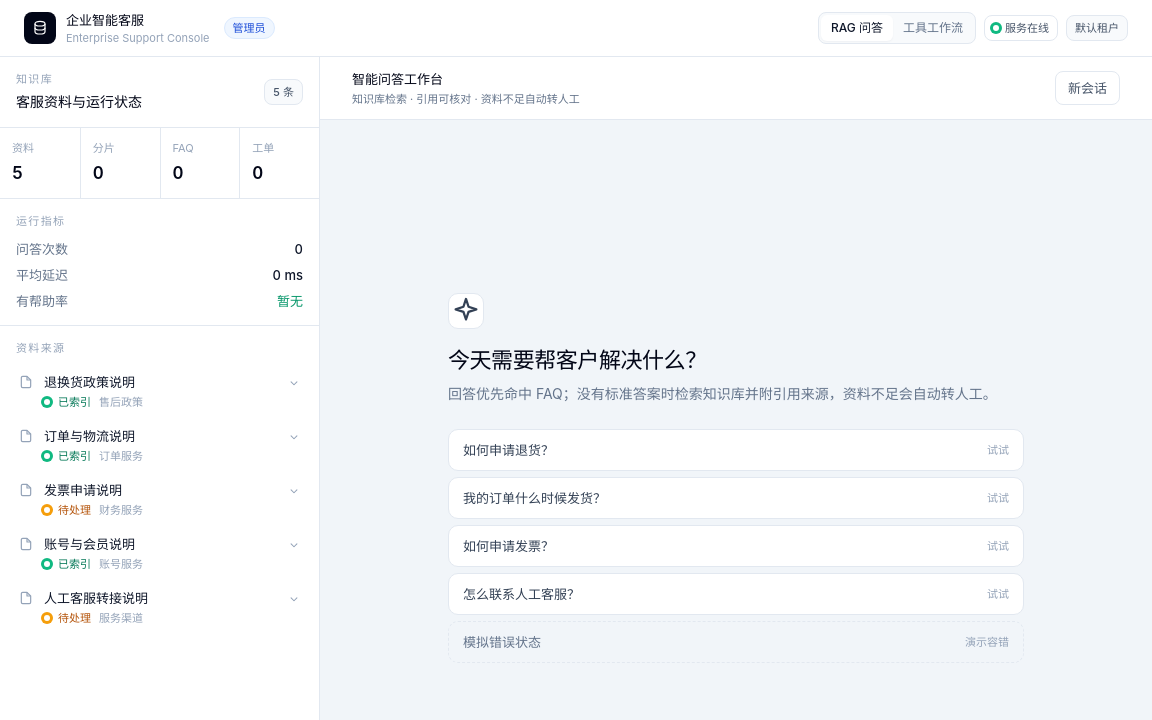
Test case: App › shows the simulated error state
Click the button "模拟错误状态 演示容错" at (502, 642), box [448,620,1024,662]
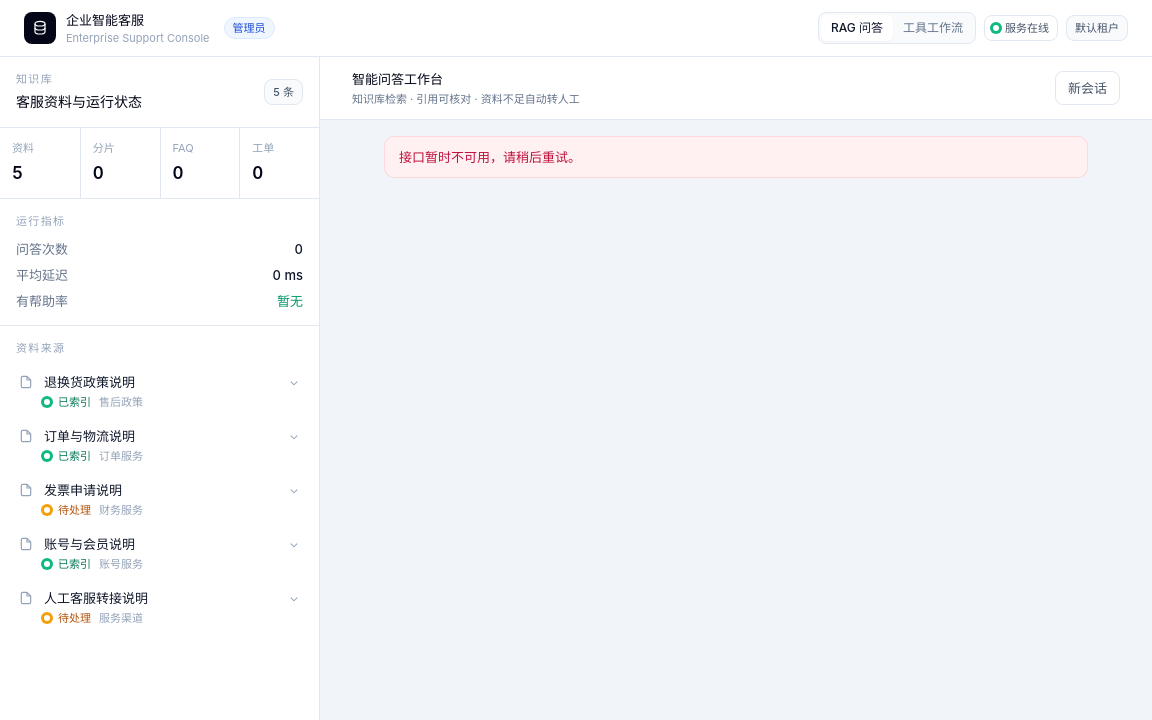
Check: the text "接口暂时不可用，请稍后重试。" is shown, box [384,136,1088,178]
